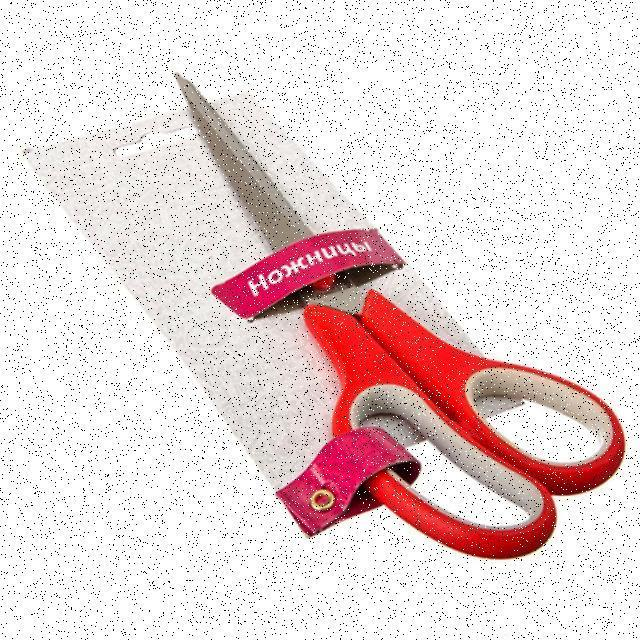scissors: (164, 62, 630, 564)
